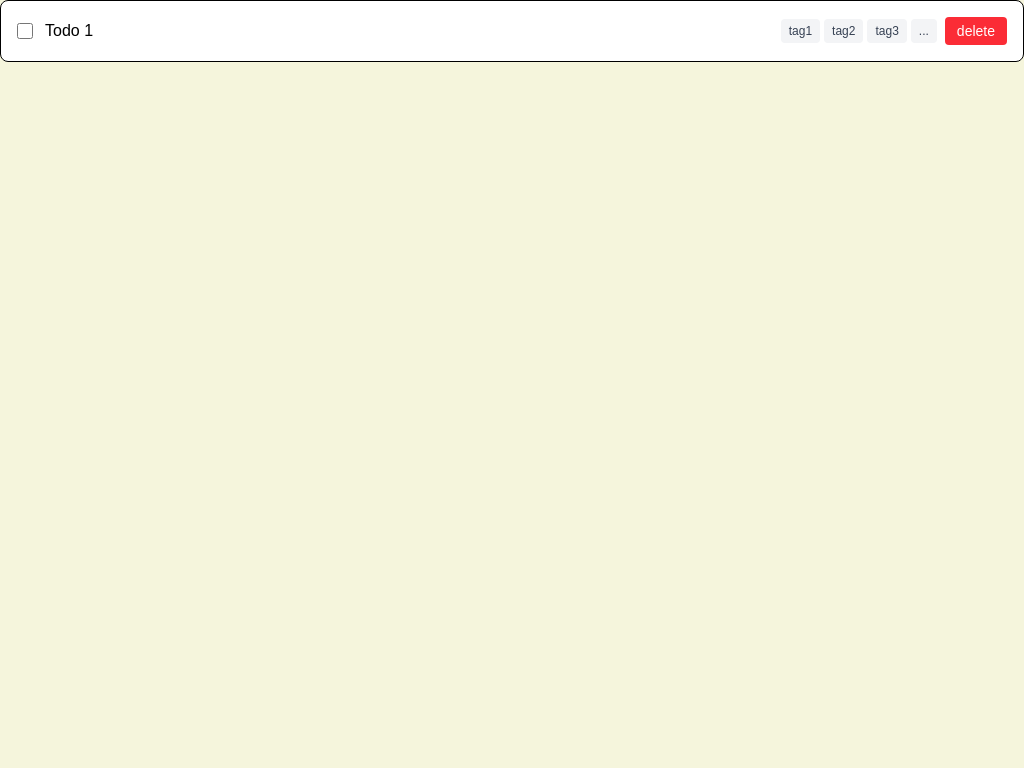
Test case: TodoList Component › shows all tags in modal when "..." button is clicked
Click the button "...": x=924, y=31 [911,19,937,43]
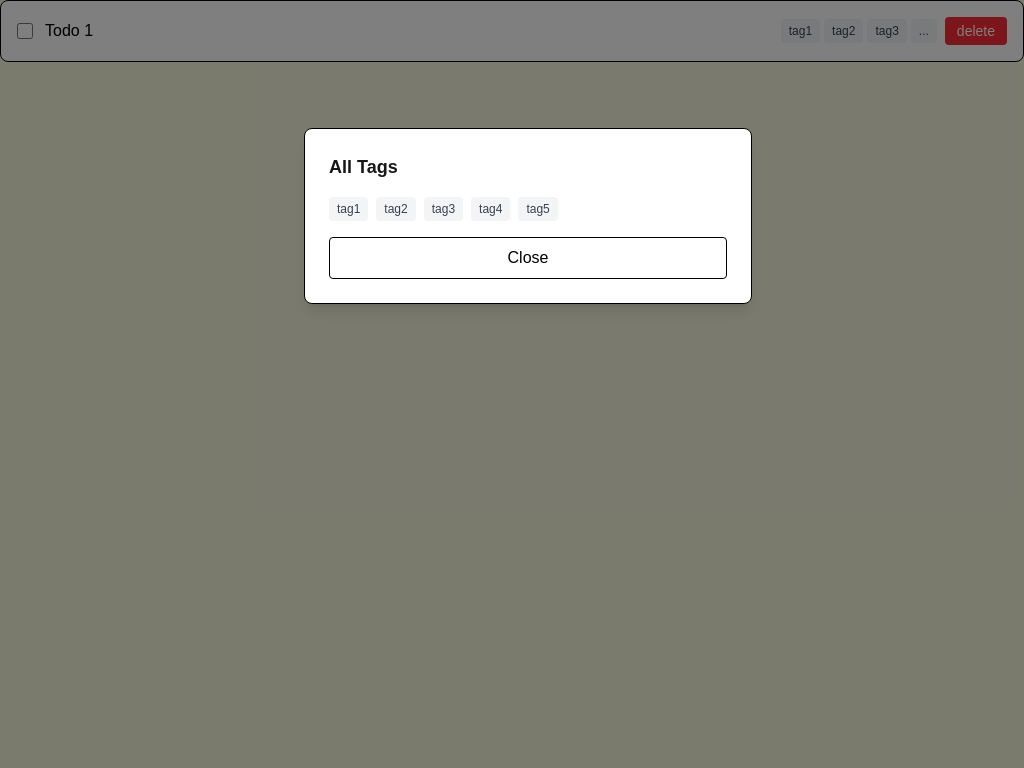
Check: the heading "All Tags" is shown, box [329,157,398,177]
Check: the number of buttons "tag1" is 2, box [781,19,820,43]; [329,197,368,221]
Check: the number of buttons "tag2" is 2, box [824,19,864,43]; [376,197,416,221]
